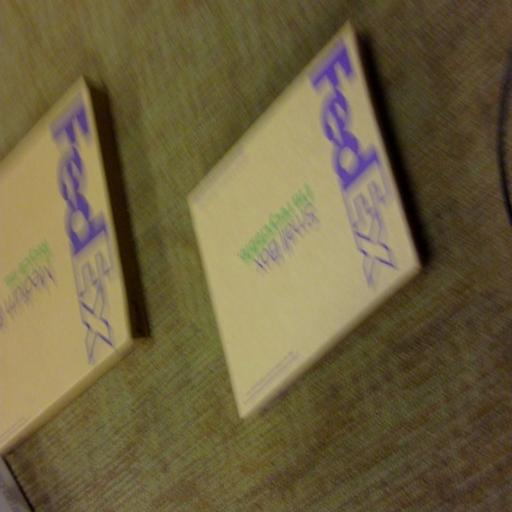Amazon: (199, 43, 416, 420), (0, 111, 148, 403)
